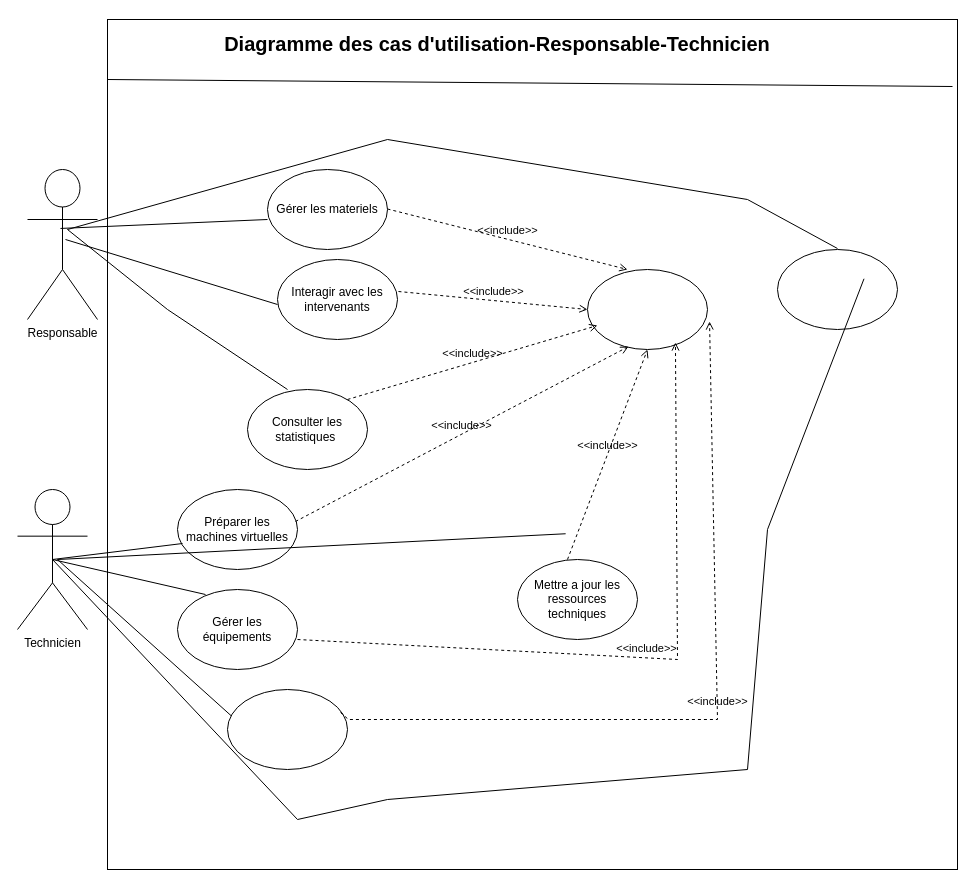
Image size: 975x887. Some labels were removed from this diagram. The shapes that lost their labels are listed below. From the top down, each one's centre as x and y in pixels, then its label:
At (647,309): "Se connecter".
At (837,289): "S'inscrire".
At (287,729): "Traiter les incidents".
